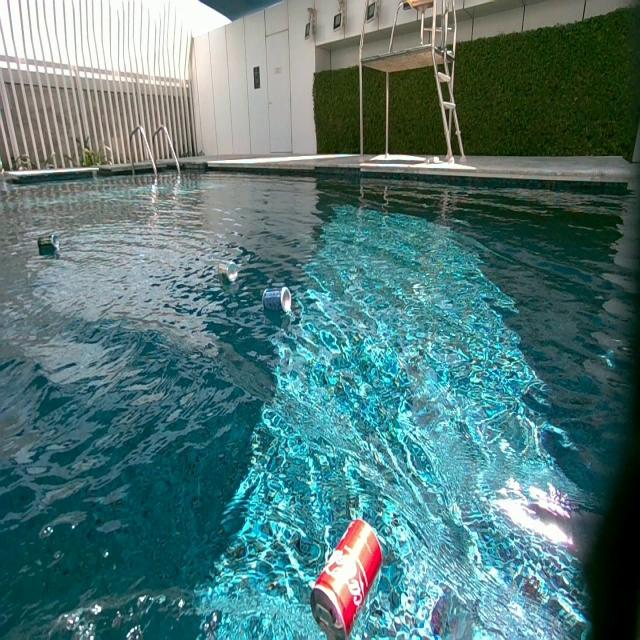Cans: (311, 518, 385, 639), (263, 288, 291, 314), (218, 264, 238, 284), (37, 234, 58, 252)
